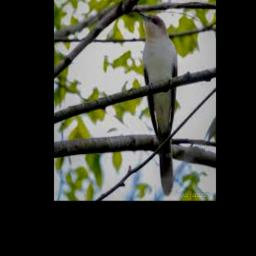Cuckoo: (137, 12, 177, 195)
